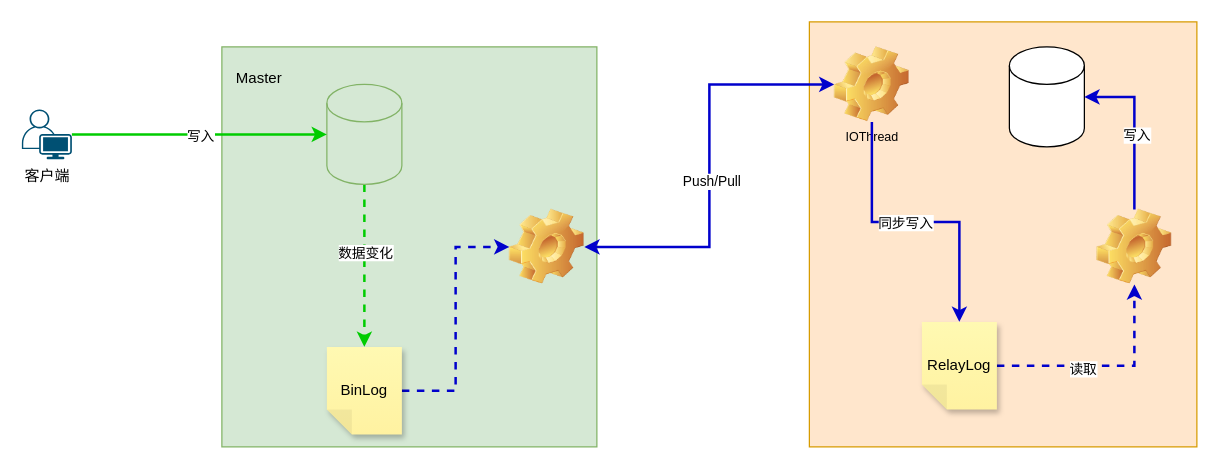
Image size: 1219x469. Some labels were removed from this diagram. The shapes that lost their labels are listed below. From the top down, each one's centre as x and y in pixels, then its label:
At point (546, 246): "DumpThread".
At point (1133, 246): "SQLThread".
